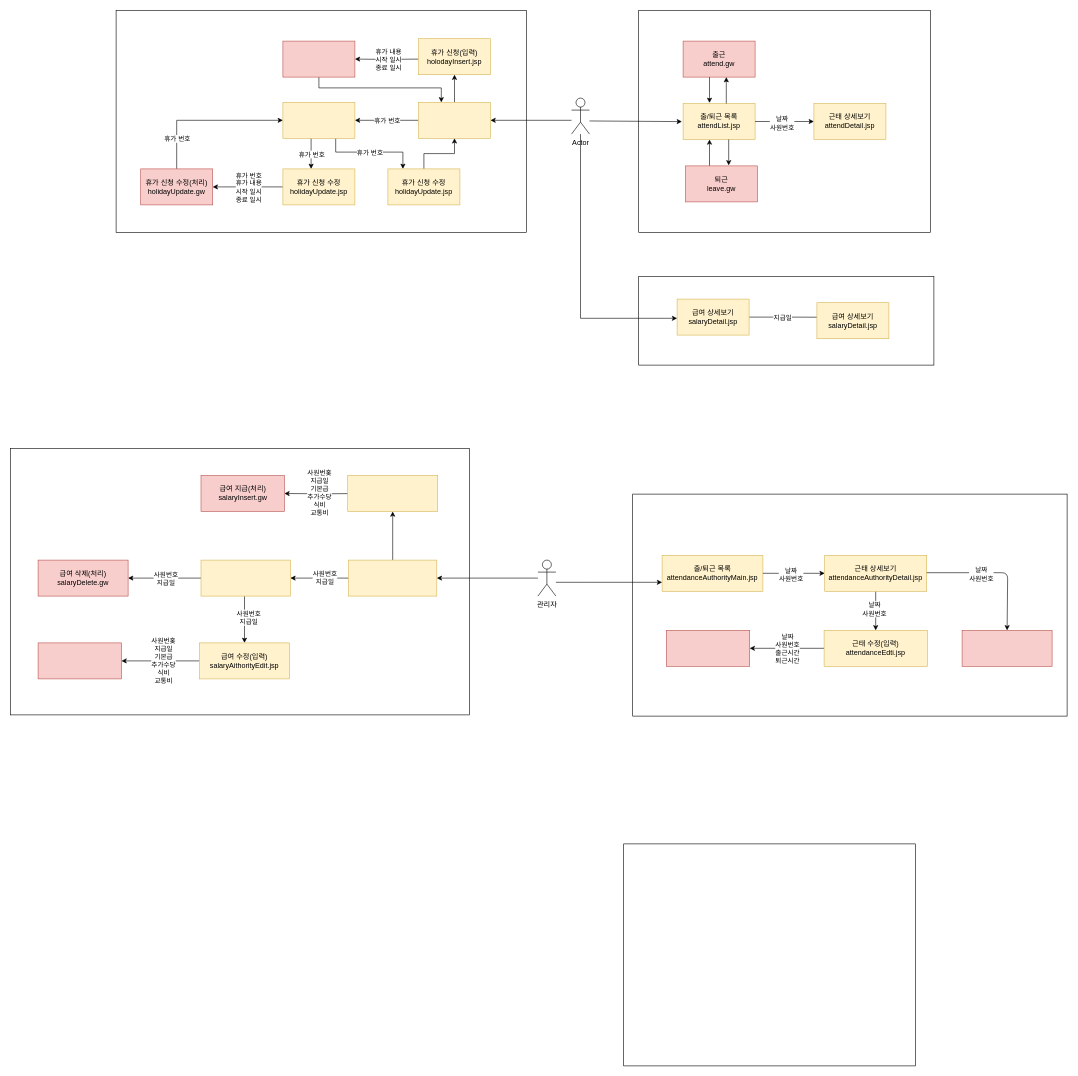
This 1078x1076 diagram has some shape labels left out. The centre of each missing label's shape, as x and y in pixels:
"근태 삭제(처리) attendanceDelete.gw" belongs at point 1007,648.
"근태 수정(처리) attendacneEdit.gw" belongs at point 708,648.
"급여 상세보기 salaryAuthorityDetail.jsp" belongs at point 245,578.
"급여 수정(처리) salaryEdit.gw" belongs at point 80,660.
"급여 지급 목록 salaryAuthority.jsp" belongs at point 392,578.
"급여 지급(입력) salaryAithorityInsert.jsp" belongs at point 392,493.
"휴가 상세보기 holidayDetail.jsp" belongs at point 318,120.
"휴가 신청 목록 holidayList.jsp" belongs at point 454,120.
"휴가 신청(처리) holidayInsert.gw" belongs at point 318,58.
